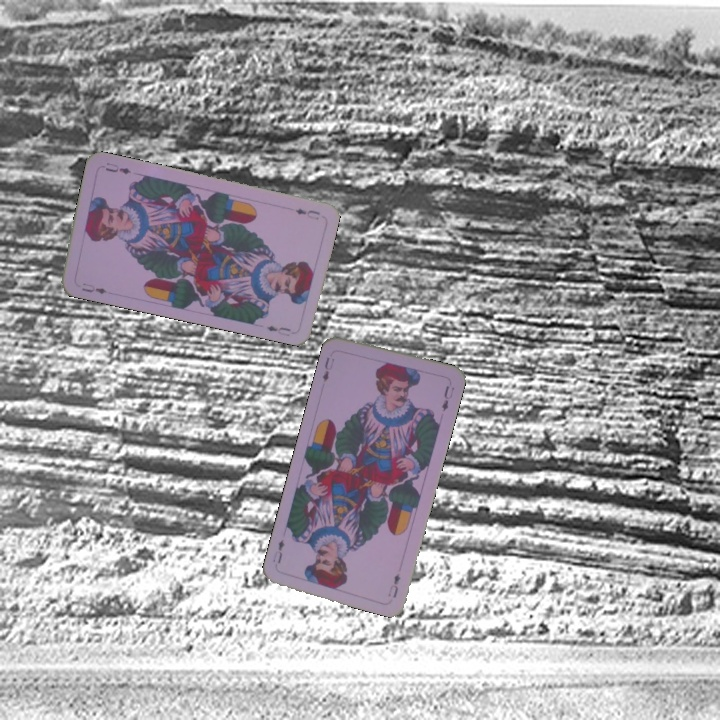EU: (318, 353, 337, 385), (384, 569, 403, 600), (78, 279, 109, 297), (291, 204, 322, 222)
